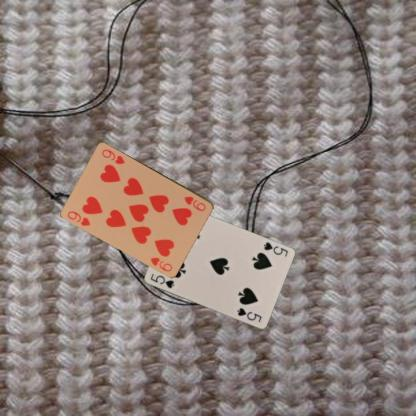5s: (260, 240, 289, 258), (147, 271, 175, 289)
9h: (65, 208, 92, 227), (182, 194, 208, 212)
